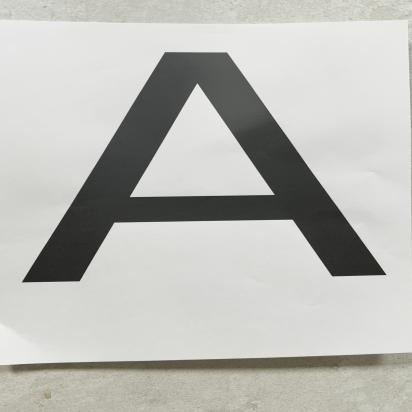seat: (26, 43, 390, 290)
